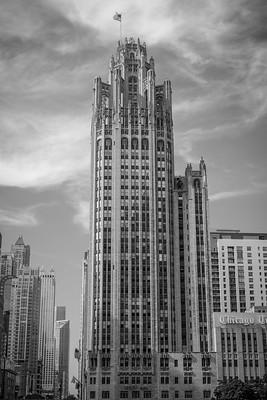building: (80, 32, 220, 400)
